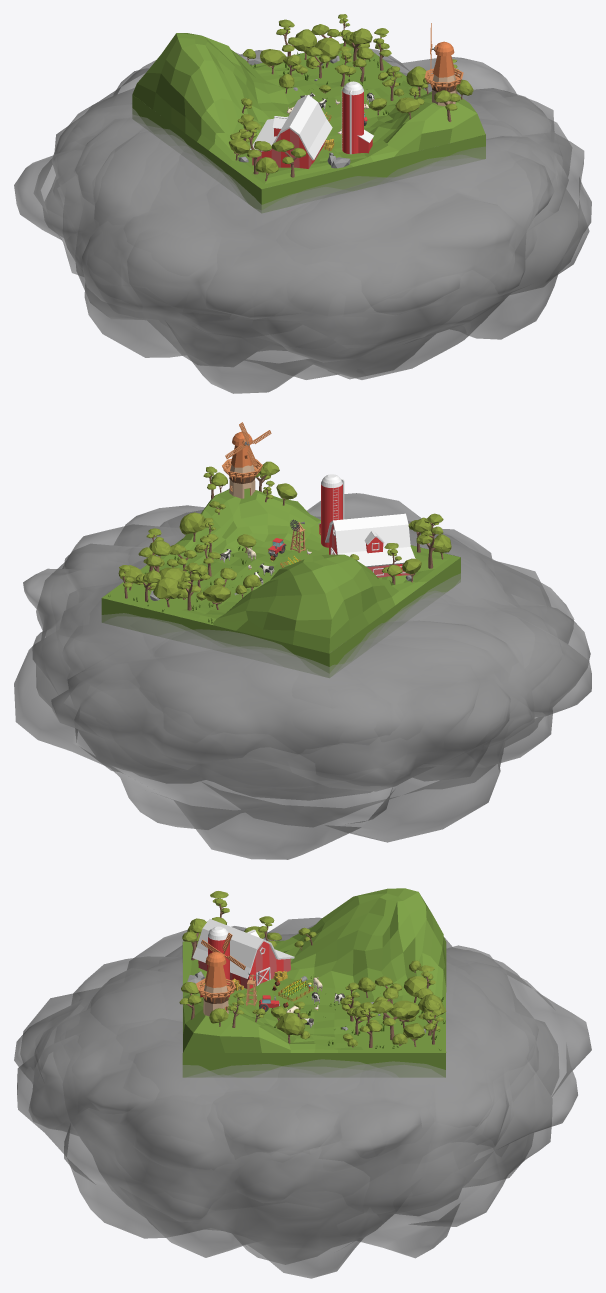
The model's file is CS299_Main.glb.
3 renders of one model, top to bottom at view 1: azimuth 30°, elevation 25°; view 2: azimuth 150°, elevation 25°; view 3: azimuth 270°, elevation 25°, orthographic.
Visible parts, largest first — view 1: Object_3.001, Object_3, Object_3.002, Field, Object_3.003, Object_28, Object_31, Windmill_Windmill Top_0, Tree 19, Object_10, Tree 18, Object_14; view 2: Object_3.003, Object_3.002, Object_3, Object_3.001, Field, Object_28, Object_31, Tree 19; view 3: Object_3.001, Object_3.002, Object_3.003, Object_3, Field, Object_28, Object_31, Object_14, Windmill_Windmill Top_0, Tree 2, Tree 5.
Part boxes in pixels (x1,y1,x2,y2): Object_3.001: (75,60,591,379); Object_3: (14,88,554,347); Object_3.002: (43,105,581,393); Field: (132,33,485,212); Object_3.003: (52,48,568,321); Object_28: (250,88,342,160); Object_31: (262,88,372,168); Windmill_Windmill Top_0: (433,41,454,77); Tree 19: (240,120,271,174); Object_10: (342,81,373,154); Tree 18: (271,139,306,177); Object_14: (252,129,326,168); Object_3.003: (23,524,561,788); Object_3.002: (14,510,516,859); Object_3: (62,493,591,791); Object_3.001: (59,505,590,800); Field: (101,488,460,677); Object_28: (325,486,415,575); Object_31: (319,484,401,575); Tree 19: (416,513,444,568); Object_3.001: (17,917,538,1248); Object_3.002: (54,948,558,1278); Object_3.003: (81,924,591,1213); Object_3: (14,926,538,1187); Field: (182,888,446,1077); Object_28: (192,919,294,985); Object_31: (200,937,283,997); Object_14: (198,943,290,988); Windmill_Windmill Top_0: (205,951,226,987); Tree 2: (372,999,407,1040); Tree 5: (276,1012,305,1043).
Bounding box in the file's own units: 363 × 242 × 359.
